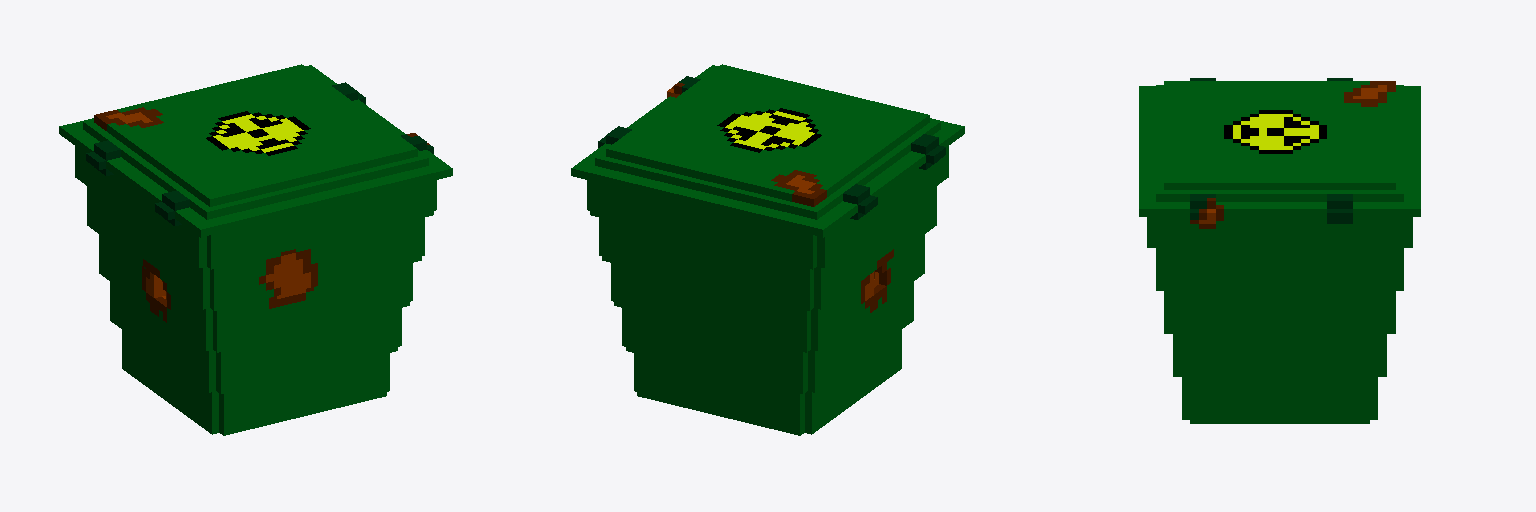
3 renders of one model, left to right at view 1: azimuth 30°, elevation 25°; view 2: azimuth 150°, elevation 25°; view 3: azimuth 270°, elevation 25°, orthographic.
Parts seen in each view (by area): view 1: object 1; view 2: object 1; view 3: object 1.
Part boxes in pixels (x1,y1,x2,y2): object 1: (59, 64, 452, 435); object 1: (571, 64, 964, 435); object 1: (1139, 78, 1420, 423).
Size of the model in its own units: 3.6 by 3.2 by 3.3.
1 materials, 1 textured.